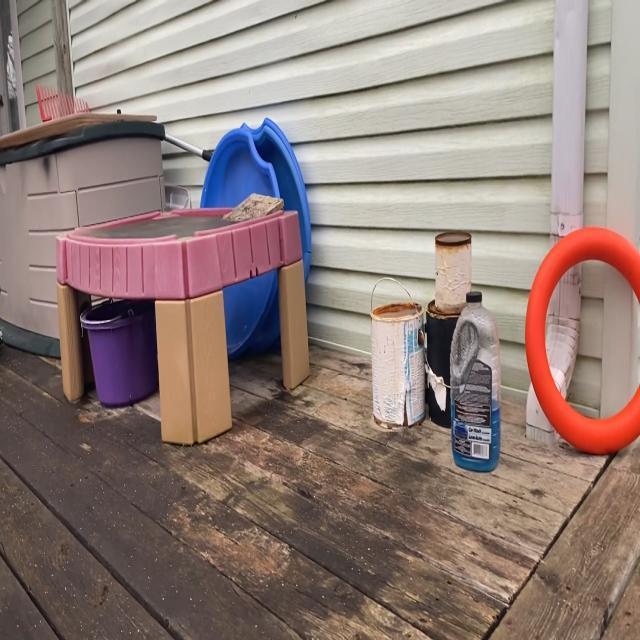note: (522, 222, 640, 458)
